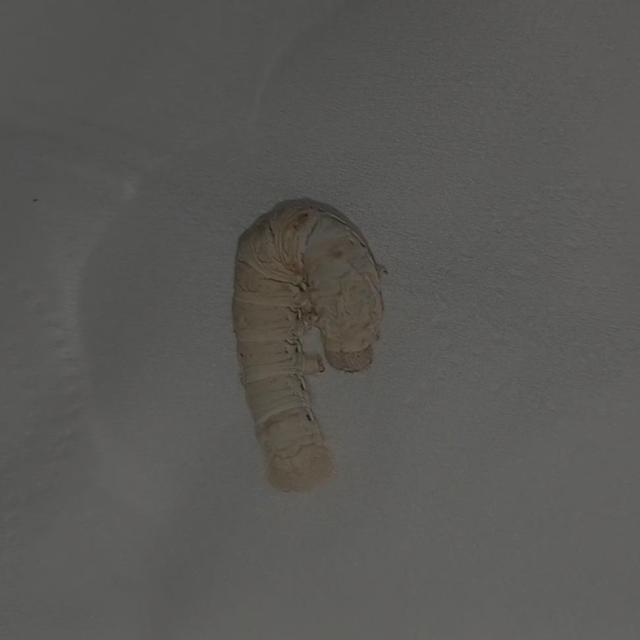Healthy: (212, 178, 416, 518)
